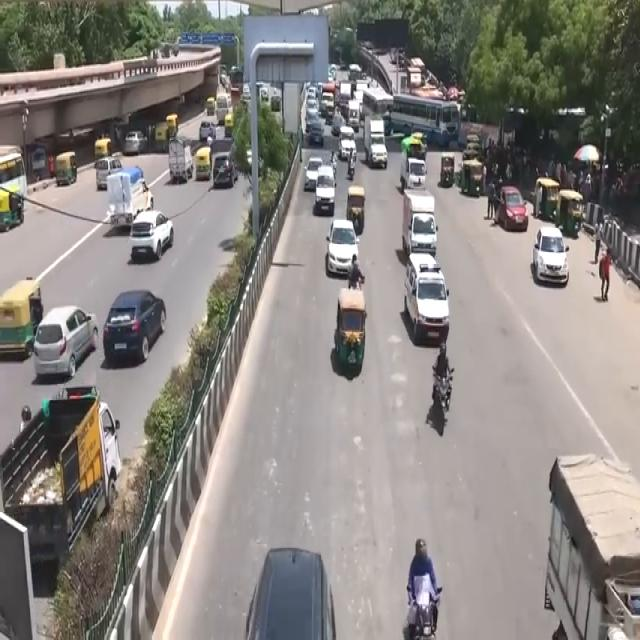BUS: (390, 93, 460, 146)
MOTORCYCLE: (410, 587, 442, 640), (434, 372, 453, 440)
TRUCK: (0, 386, 117, 574), (544, 458, 636, 640), (401, 135, 428, 190)
